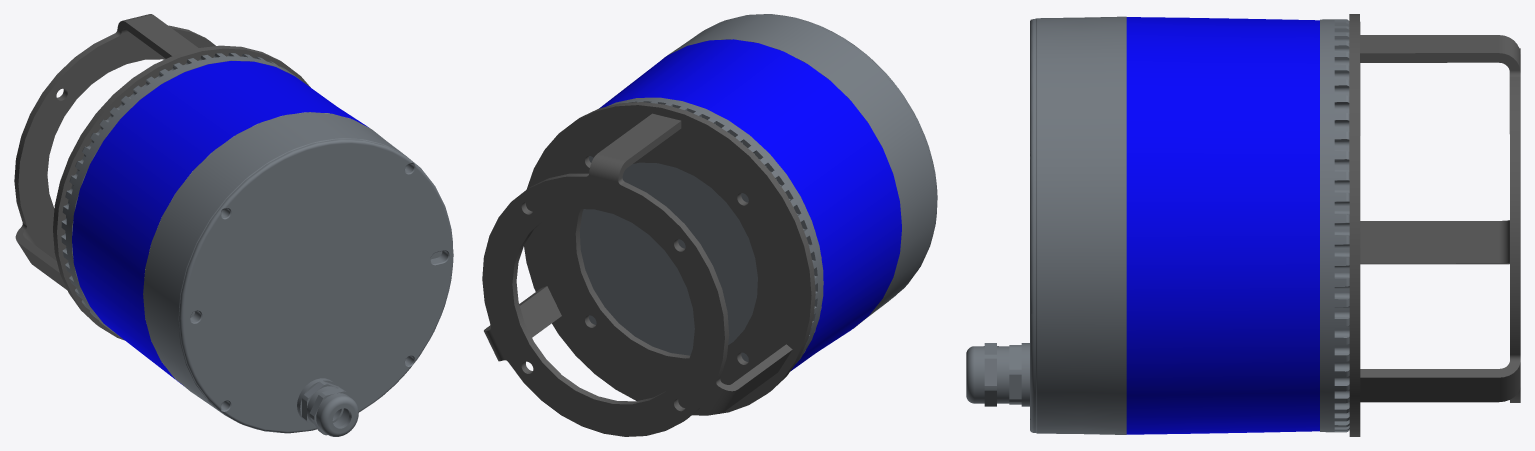
File: sensor_lidar_visual.obj
3 renders of one model, left to right at view 1: azimuth 30°, elevation 25°; view 2: azimuth 150°, elevation 25°; view 3: azimuth 270°, elevation 25°, orthographic. The views are drawn at different scales.
Visible parts, largest first — view 1: BTM_13_73_119_6.001, ZHAO_1_1_4_4_2.001, 雷达_雷神M10支架_1.001, 雷达_雷神M10支架_001.001, __V20_1_11_29_2.001, WATERPROOF-CONNECTOR_1.001; view 2: 雷达_雷神M10支架_001.001, ZHAO_1_1_4_4_2.001, 雷达_雷神M10支架_1.001, __V20_1_11_29_2.001, BTM_13_73_119_6.001; view 3: ZHAO_1_1_4_4_2.001, BTM_13_73_119_6.001, 雷达_雷神M10支架_1.001, __V20_1_11_29_2.001, 雷达_雷神M10支架_001.001, WATERPROOF-CONNECTOR_1.001.
Boxes of the visible parts, x1,y1,x2,y2 form: BTM_13_73_119_6.001: (143, 112, 453, 433); ZHAO_1_1_4_4_2.001: (72, 61, 369, 385); 雷达_雷神M10支架_1.001: (14, 14, 215, 290); 雷达_雷神M10支架_001.001: (53, 45, 310, 340); __V20_1_11_29_2.001: (61, 53, 300, 335); WATERPROOF-CONNECTOR_1.001: (302, 381, 358, 436); 雷达_雷神M10支架_001.001: (524, 102, 815, 415); ZHAO_1_1_4_4_2.001: (599, 39, 901, 371); 雷达_雷神M10支架_1.001: (482, 113, 792, 436); __V20_1_11_29_2.001: (579, 97, 823, 363); BTM_13_73_119_6.001: (662, 14, 937, 328); ZHAO_1_1_4_4_2.001: (1126, 17, 1319, 434); BTM_13_73_119_6.001: (1021, 16, 1126, 434); 雷达_雷神M10支架_1.001: (1360, 35, 1520, 402); __V20_1_11_29_2.001: (1320, 19, 1349, 432); 雷达_雷神M10支架_001.001: (1349, 14, 1360, 436); WATERPROOF-CONNECTOR_1.001: (966, 343, 1021, 406).
Size of the model in its own units: 0.1029 by 0.1029 by 0.1349.
